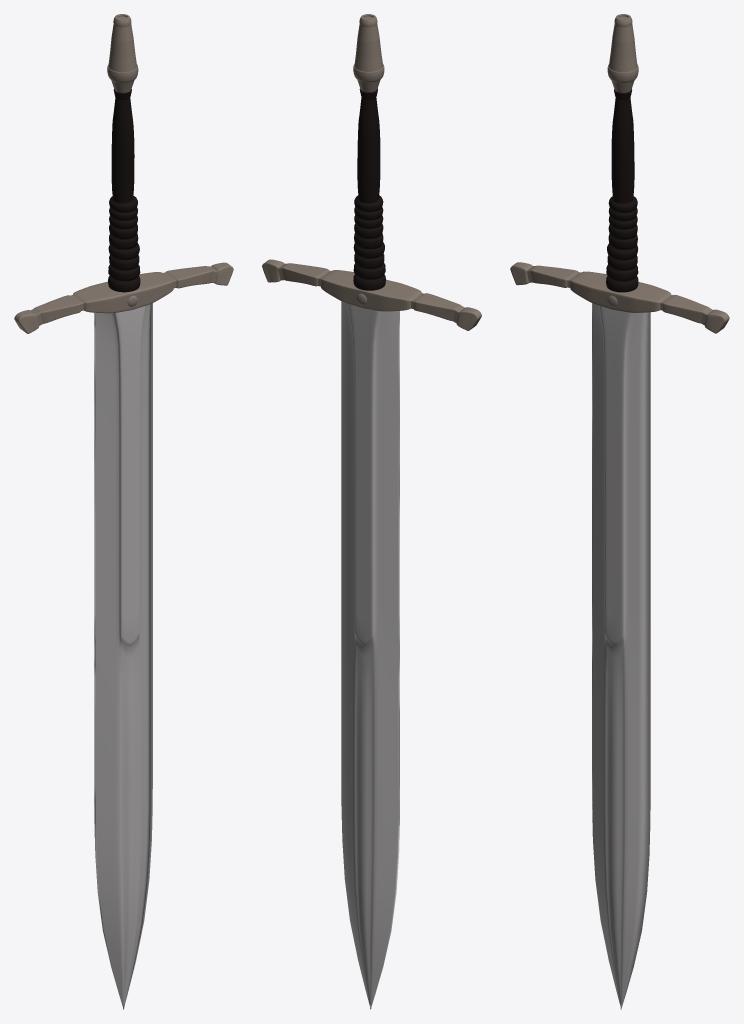
File: straight_long_sword.glb
3 renders of one model, left to right at view 1: azimuth 30°, elevation 25°; view 2: azimuth 150°, elevation 25°; view 3: azimuth 330°, elevation 25°, orthographic.
Parts seen in each view (by area): view 1: Cube.003, Cube.004, Circle.055, Cylinder.008, Cylinder.009; view 2: Cube.003, Cube.004, Circle.055, Cylinder.008, Cylinder.009; view 3: Cube.003, Cube.004, Circle.055, Cylinder.008, Cylinder.009.
Boxes of the visible parts, box(x1,y1,x2,y2) form: Cube.003: box(94, 303, 152, 1009); Cube.004: box(14, 262, 233, 333); Circle.055: box(108, 195, 140, 292); Cylinder.008: box(111, 89, 134, 203); Cylinder.009: box(107, 14, 138, 92); Cube.003: box(341, 301, 399, 1009); Cube.004: box(262, 259, 481, 330); Circle.055: box(353, 195, 385, 290); Cylinder.008: box(357, 88, 380, 203); Cylinder.009: box(353, 14, 384, 92); Cube.003: box(592, 303, 650, 1009); Cube.004: box(510, 262, 729, 333); Circle.055: box(606, 196, 638, 292); Cylinder.008: box(611, 89, 634, 203); Cylinder.009: box(607, 14, 638, 92).
Size of the model in its own units: 1.31 by 5.77 by 0.2046.
Materials: 1 (1 with a texture image).
